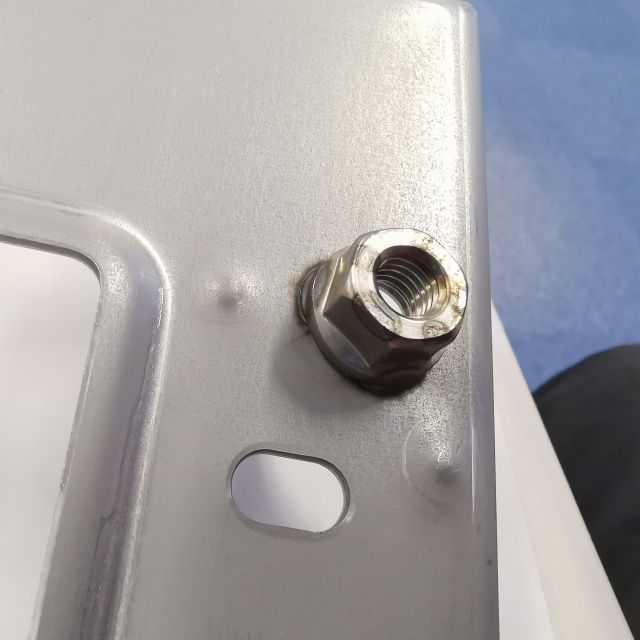dog: (291, 221, 473, 399)
